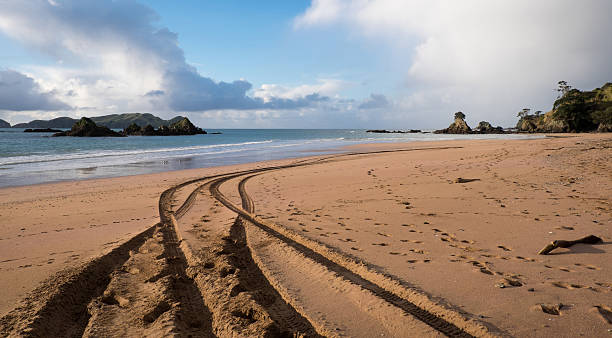human_foot_print: (432, 228, 485, 251), (550, 281, 597, 291), (536, 303, 568, 315), (468, 260, 493, 274), (593, 304, 611, 323), (496, 275, 523, 287), (401, 223, 422, 233), (574, 263, 600, 270), (595, 282, 611, 291), (514, 256, 535, 261), (406, 259, 430, 263), (400, 239, 422, 243), (497, 245, 511, 250), (338, 238, 355, 242), (389, 251, 406, 255), (372, 242, 388, 246), (377, 232, 390, 236), (350, 247, 363, 251)
vehicle_track: (0, 151, 389, 336), (210, 152, 471, 336), (210, 173, 472, 336), (210, 176, 472, 336), (0, 223, 211, 336), (159, 146, 461, 222), (83, 183, 214, 336), (0, 226, 154, 336), (182, 213, 319, 336), (83, 225, 213, 336), (223, 216, 319, 336)
